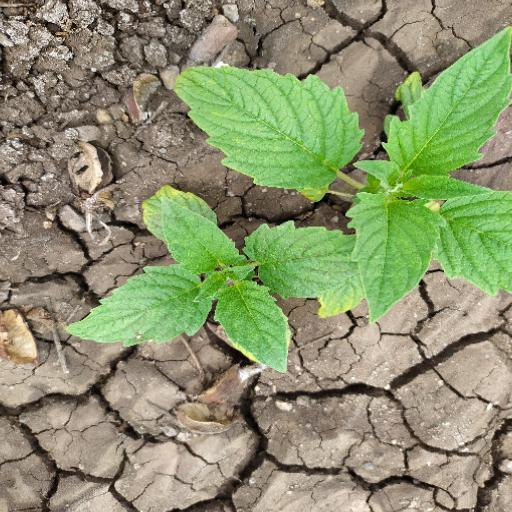crop: (172, 37, 512, 310), (67, 168, 391, 400)
